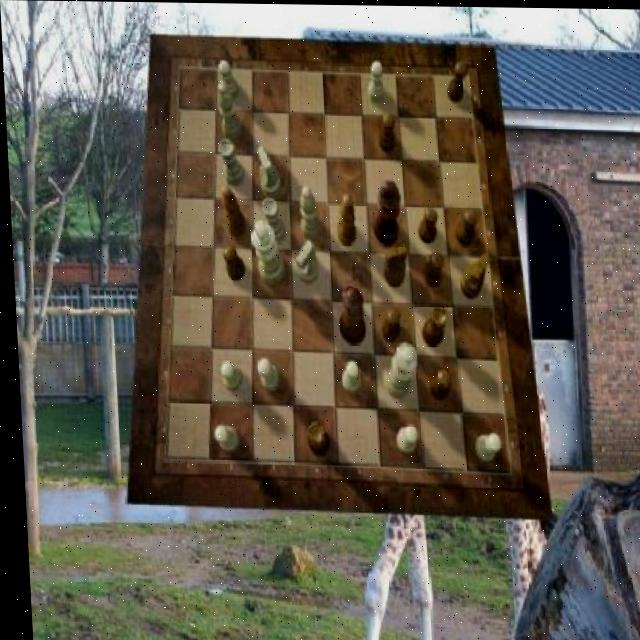bishop: (218, 184, 244, 236), (332, 195, 354, 247)
black-bishop: (367, 179, 399, 245)
black-king: (456, 251, 487, 298), (380, 243, 405, 285)
black-knight: (444, 60, 467, 102), (452, 210, 476, 246), (220, 246, 244, 280), (414, 206, 436, 242), (424, 368, 449, 399), (419, 251, 441, 286), (376, 112, 395, 152), (378, 308, 398, 342)
black-pawn: (334, 285, 363, 346)
black-queen: (417, 306, 444, 347), (302, 420, 326, 455)
black-rook: (216, 81, 241, 139), (296, 185, 319, 239)
white-bishop: (247, 218, 282, 284)
white-king: (256, 144, 280, 196), (292, 239, 316, 283)
white-knight: (216, 61, 238, 99), (365, 59, 384, 102), (253, 358, 276, 393), (469, 433, 497, 461), (217, 359, 239, 391), (209, 425, 235, 452), (337, 361, 357, 395), (390, 425, 413, 452)
white-pawn: (377, 341, 415, 396)
white-queen: (216, 139, 243, 186), (259, 197, 284, 242)
